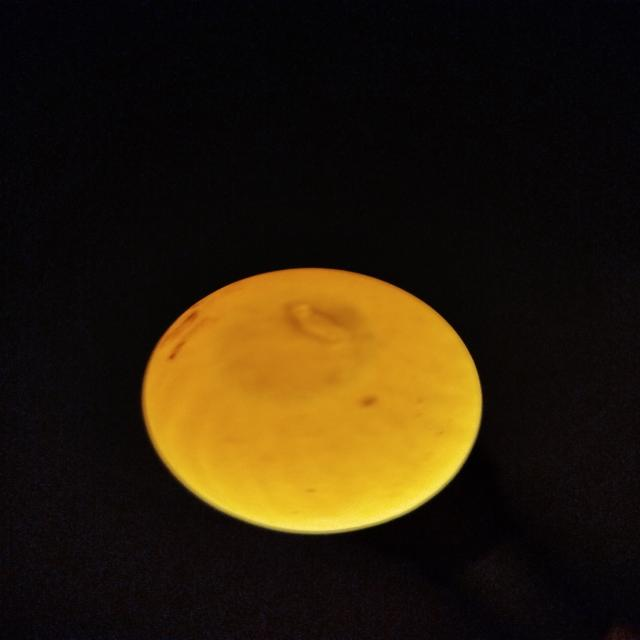Camara de Ar: (205, 297, 375, 400)
Rachadura: (288, 302, 349, 342)
